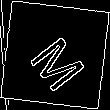M_NE: (21, 21, 89, 89)
